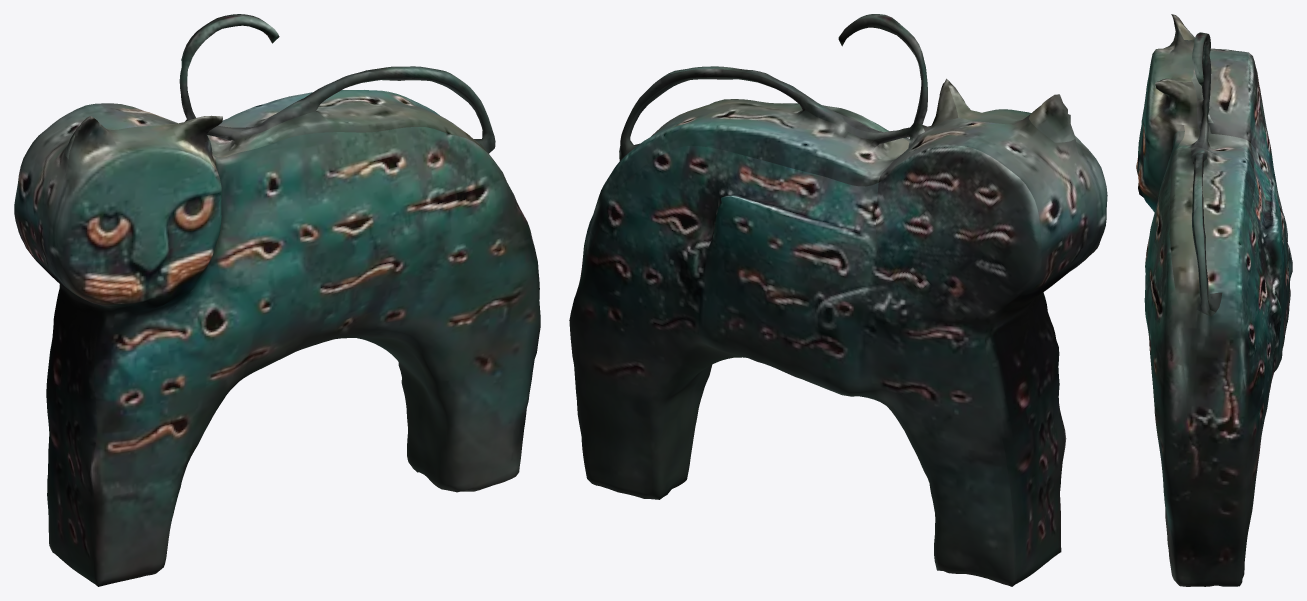
File: tin-cat.glb
3 views of the same model, side by side, from view 1: azimuth 30°, elevation 25°; view 2: azimuth 150°, elevation 25°; view 3: azimuth 270°, elevation 25° (orthographic). The views are drawn at different scales.
Visible parts, largest first — view 1: Object_0; view 2: Object_0; view 3: Object_0.
Part boxes in pixels (box(x1,y1,x2,y2)): Object_0: box(14, 14, 540, 586); Object_0: box(569, 14, 1107, 586); Object_0: box(1136, 14, 1292, 586).
Size of the model in its own units: 0.1987 by 0.2 by 0.0647.
Materials: 1 (1 with a texture image).
